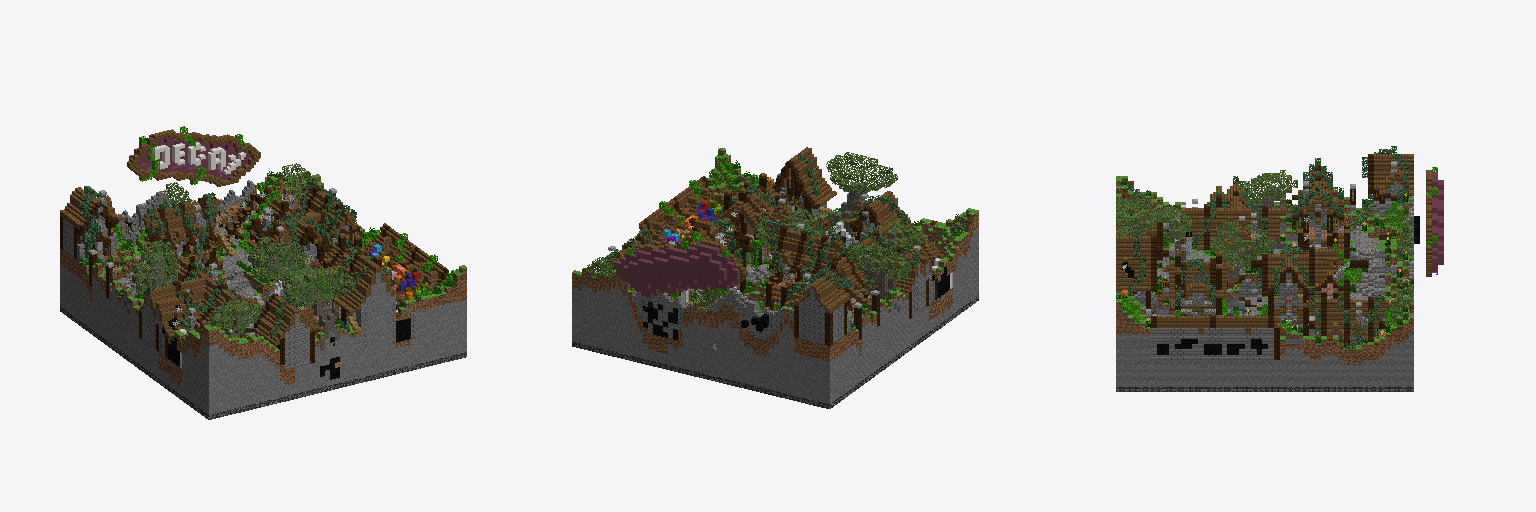
3 renders of one model, left to right at view 1: azimuth 30°, elevation 25°; view 2: azimuth 150°, elevation 25°; view 3: azimuth 270°, elevation 25°, orthographic.
Bounding box in the file's own units: 51 × 27.5 × 56.
Materials: 103 (101 with a texture image).